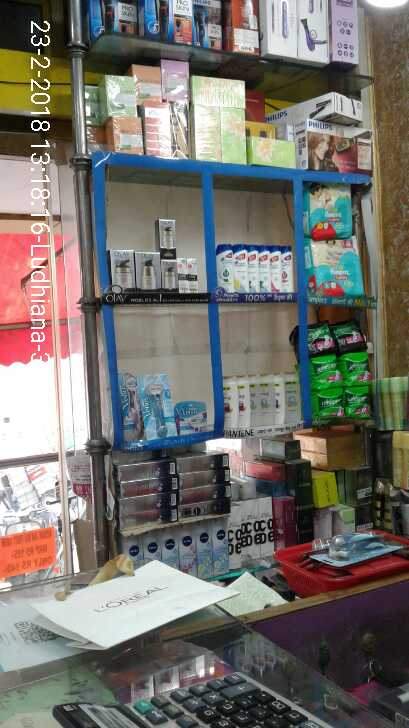venus: (142, 373, 175, 434), (121, 372, 139, 439), (175, 401, 208, 434)
